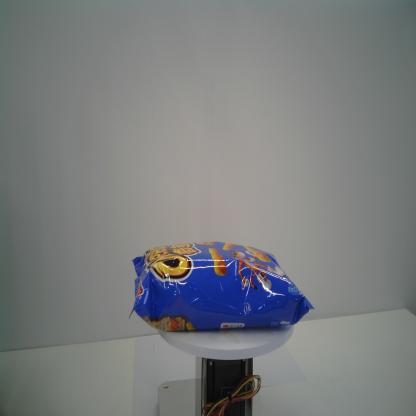Puffed Food: (127, 241, 315, 332)
